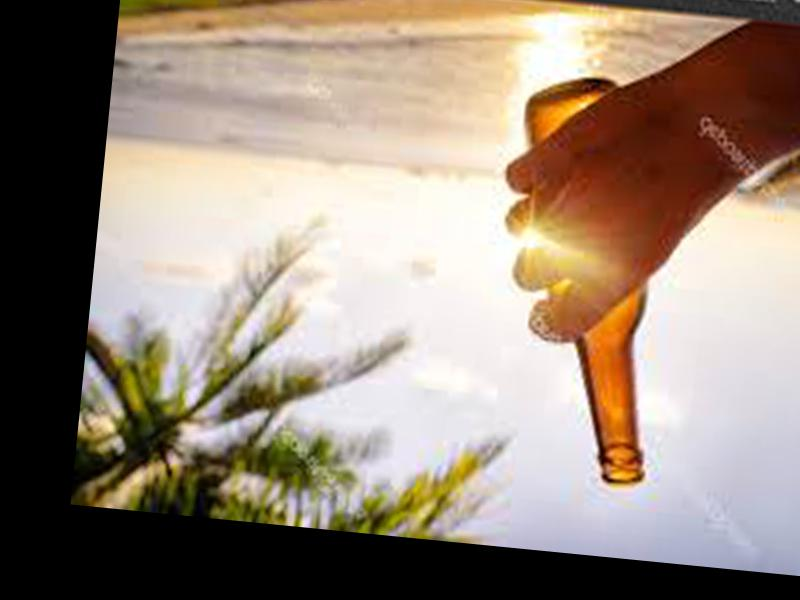Beer: (492, 68, 687, 488)
